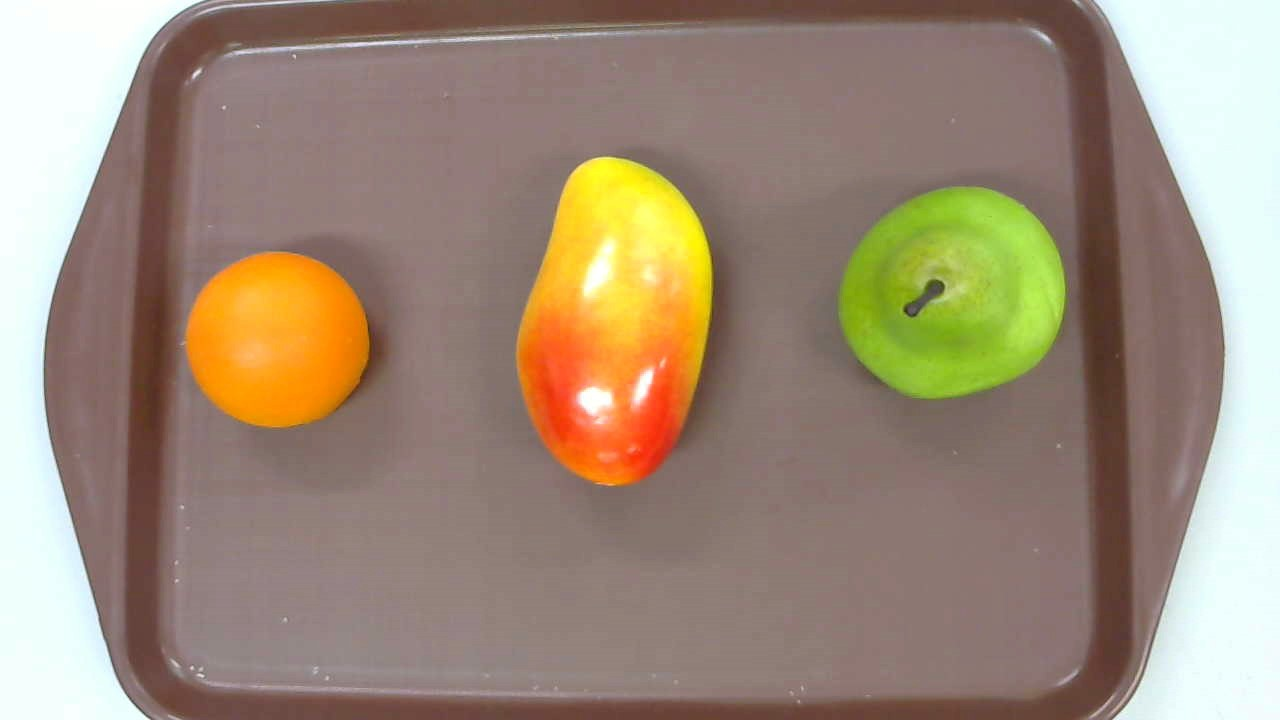bun: (186, 251, 369, 428)
green pear: (836, 186, 1064, 401)
red mango: (516, 155, 713, 489)
